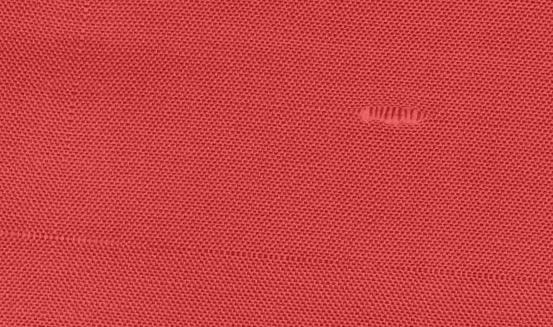slub: (358, 96, 432, 137)
